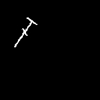double_crochet: (15, 18, 36, 46)
